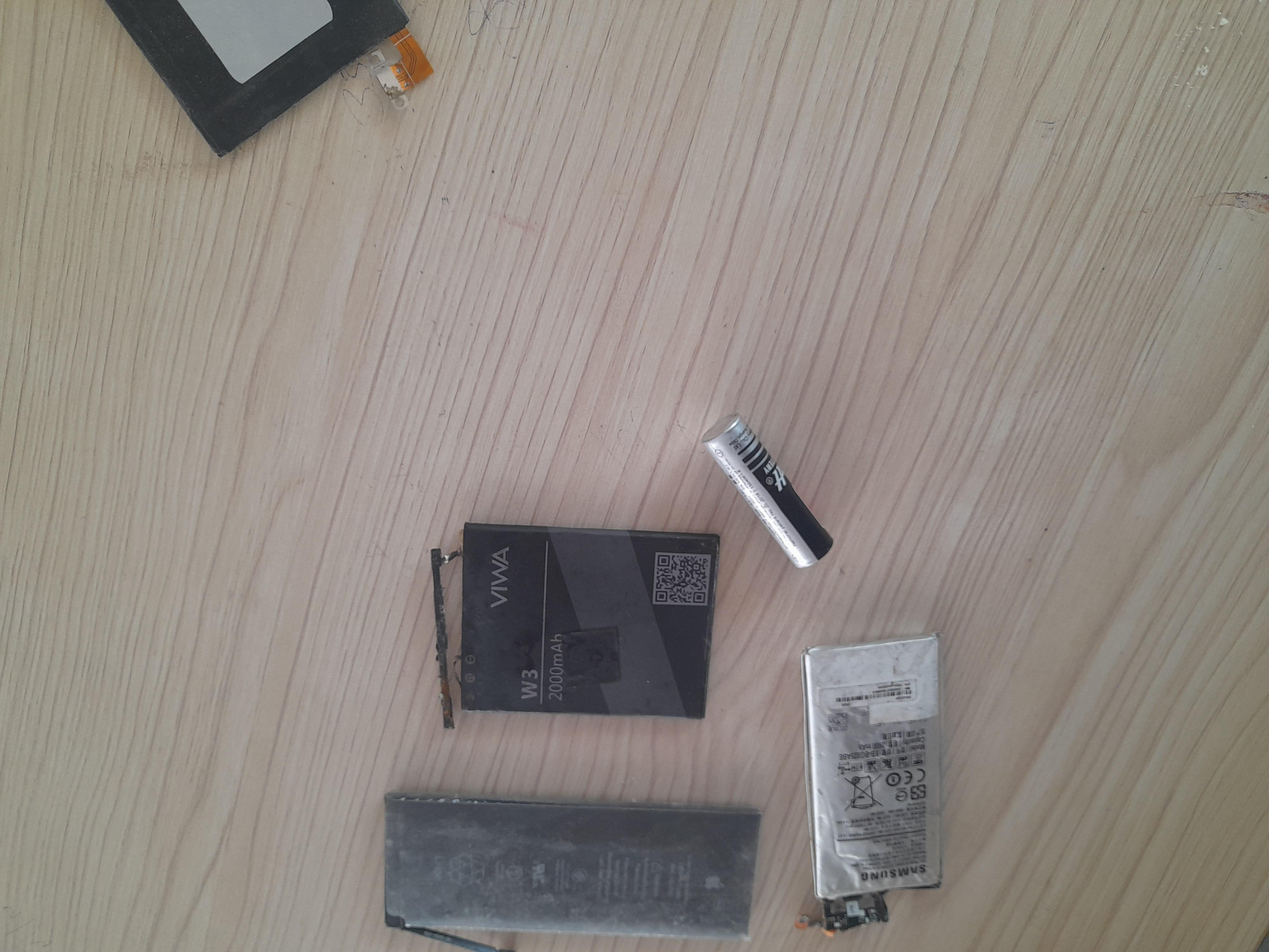AAA: (695, 413, 844, 574)
